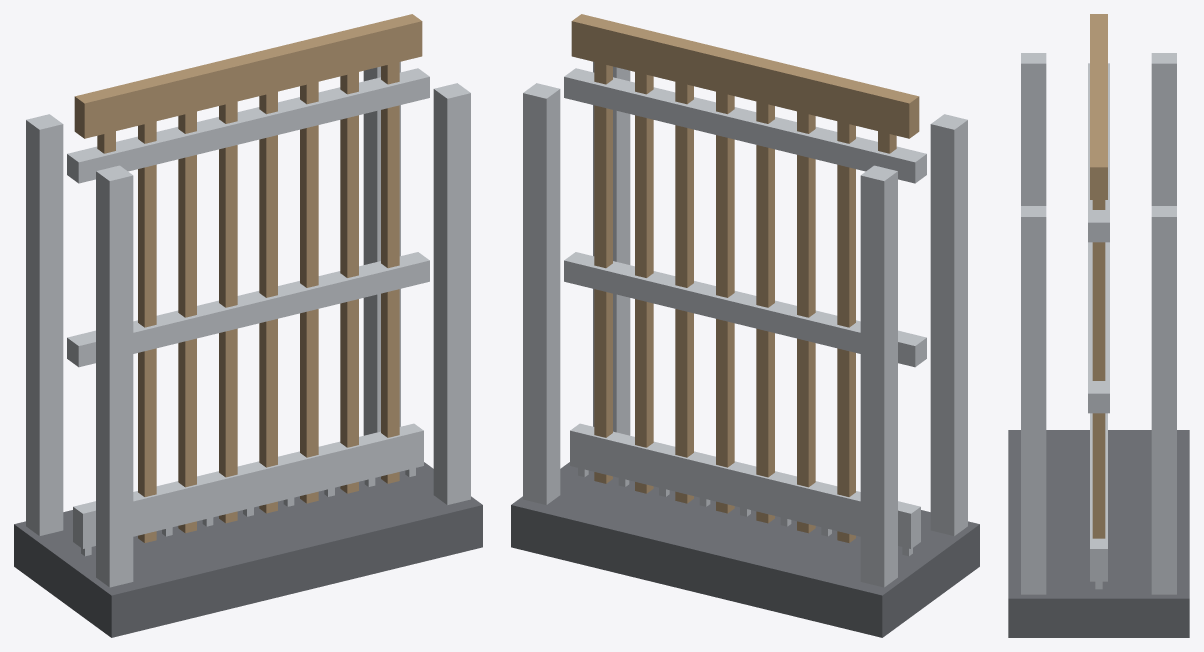
File: racecourse-and-parade-ring-divot-fork-rack-c3450a2d.glb
The picture shows the model from 3 angles, left to right: view 1: azimuth 30°, elevation 25°; view 2: azimuth 150°, elevation 25°; view 3: azimuth 270°, elevation 25°; orthographic projection. The views are drawn at different scales.
Parts seen in each view (by area): view 1: divot-fork-rack; view 2: divot-fork-rack; view 3: divot-fork-rack.
Part boxes in pixels (x1,y1,x2,y2): divot-fork-rack: (14,14,482,637); divot-fork-rack: (511,14,979,637); divot-fork-rack: (1008,14,1189,637).
Size of the model in its own units: 1.1 by 1.43 by 0.5.
